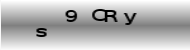9: (64, 9, 78, 23)
C: (90, 8, 105, 22)
R: (104, 8, 117, 23)
s: (34, 27, 48, 38)
y: (123, 12, 138, 26)
